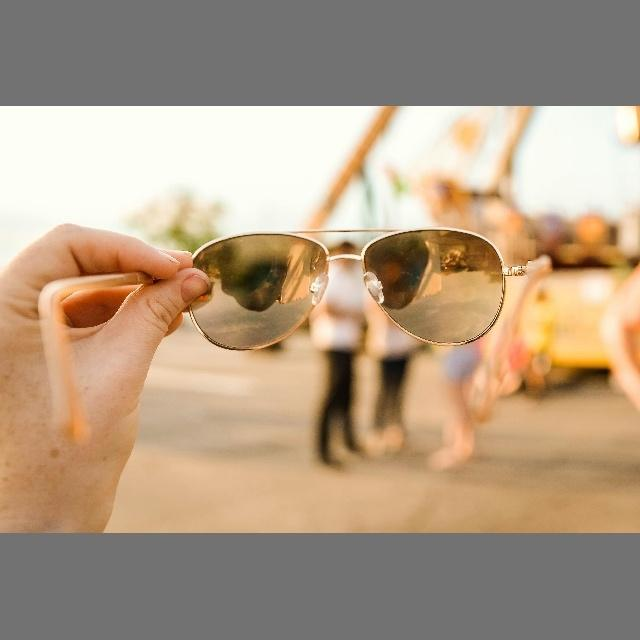Sunglasses: (183, 224, 529, 354)
